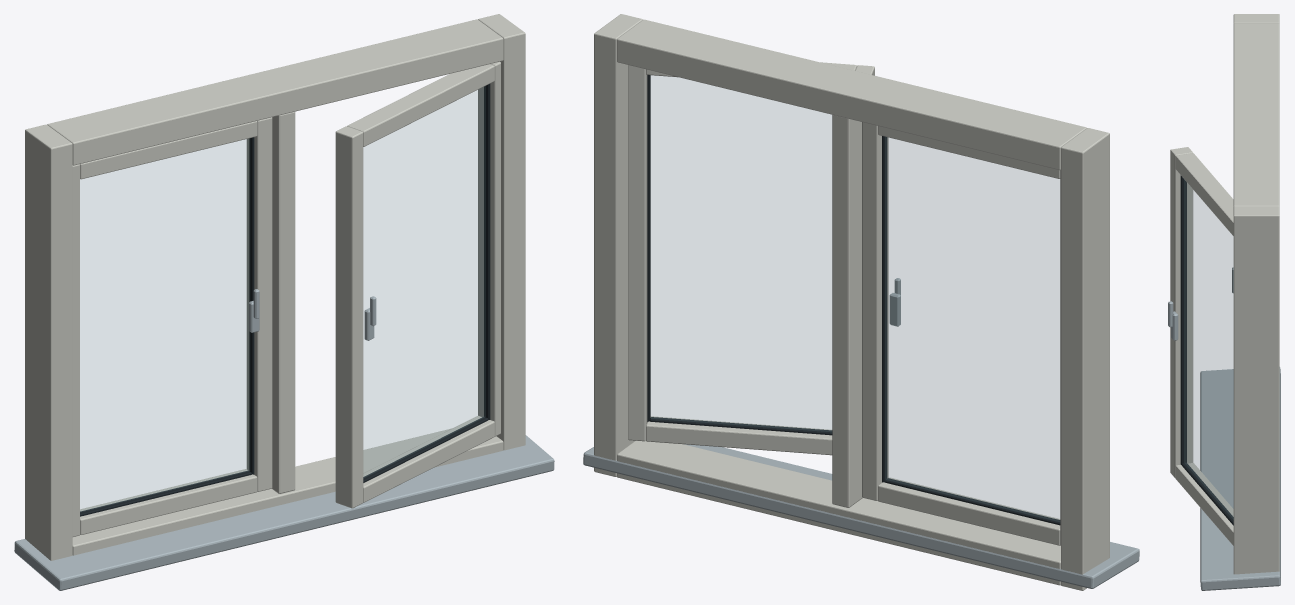
The model's file is city-casement-window.glb.
The picture shows the model from 3 angles, left to right: view 1: azimuth 30°, elevation 25°; view 2: azimuth 150°, elevation 25°; view 3: azimuth 270°, elevation 25°; orthographic projection. The views are drawn at different scales.
Visible parts, largest first — view 1: Casement glass pane, Casement glass pane.001, Window fixed outer frame horizontal.001, Window fixed outer frame vertical, Sloped exterior sill, Window fixed outer frame vertical.001, Opening sash perimeter vertical.002, Window central mullion, Opening sash perimeter vertical.001, Window fixed outer frame horizontal, Opening sash perimeter vertical.003, Opening sash perimeter horizontal (+8 smaller); view 2: Casement glass pane.001, Casement glass pane, Window fixed outer frame horizontal.001, Window fixed outer frame vertical, Window fixed outer frame vertical.001, Window fixed outer frame horizontal, Window central mullion, Sloped exterior sill, Opening sash perimeter vertical.001, Opening sash perimeter vertical.003, Opening sash perimeter horizontal, Opening sash perimeter horizontal.002 (+5 smaller); view 3: Window fixed outer frame vertical.001, Casement glass pane.001, Window fixed outer frame horizontal.001, Sloped exterior sill, Opening sash perimeter vertical.002, Opening sash perimeter horizontal.003, Window glazing gasket vertical.002, Opening sash perimeter horizontal.002, Window glazing gasket horizontal.002, Window fixed outer frame vertical, Window latch base.001.
Boxes of the visible parts, box(x1,y1,x2,y2) form: Casement glass pane: box(80, 138, 249, 511); Casement glass pane.001: box(363, 86, 485, 477); Window fixed outer frame horizontal.001: box(47, 19, 503, 165); Window fixed outer frame vertical: box(25, 124, 72, 560); Sloped exterior sill: box(14, 435, 554, 590); Window fixed outer frame vertical.001: box(478, 14, 525, 450); Opening sash perimeter vertical.002: box(335, 126, 363, 508); Window central mullion: box(272, 111, 295, 493); Opening sash perimeter vertical.001: box(246, 117, 272, 491); Window fixed outer frame horizontal: box(72, 428, 503, 555); Opening sash perimeter vertical.003: box(478, 61, 500, 436); Opening sash perimeter horizontal: box(80, 469, 257, 534); Casement glass pane.001: box(650, 75, 831, 431); Casement glass pane: box(885, 137, 1059, 521); Window fixed outer frame horizontal.001: box(617, 19, 1086, 170); Window fixed outer frame vertical: box(1061, 128, 1109, 590); Window fixed outer frame vertical.001: box(594, 14, 642, 476); Window fixed outer frame horizontal: box(617, 440, 1060, 585); Window central mullion: box(832, 115, 862, 507); Sloped exterior sill: box(583, 444, 1139, 588); Opening sash perimeter vertical.001: box(862, 122, 888, 500); Opening sash perimeter vertical.003: box(628, 65, 647, 441); Opening sash perimeter horizontal: box(878, 477, 1060, 545); Opening sash perimeter horizontal.002: box(646, 416, 832, 455); Window fixed outer frame vertical.001: box(1233, 206, 1279, 574); Casement glass pane.001: box(1184, 180, 1233, 518); Window fixed outer frame horizontal.001: box(1233, 23, 1279, 206); Sloped exterior sill: box(1200, 367, 1280, 590); Opening sash perimeter vertical.002: box(1170, 147, 1193, 478); Opening sash perimeter horizontal.003: box(1175, 153, 1233, 235); Window glazing gasket vertical.002: box(1180, 175, 1186, 464); Opening sash perimeter horizontal.002: box(1175, 463, 1233, 545); Window glazing gasket horizontal.002: box(1181, 463, 1233, 525); Window fixed outer frame vertical: box(1233, 14, 1279, 23); Window latch base.001: box(1171, 311, 1178, 340).
Bounding box in the file's own units: 1.46 × 1.2 × 0.3313.
